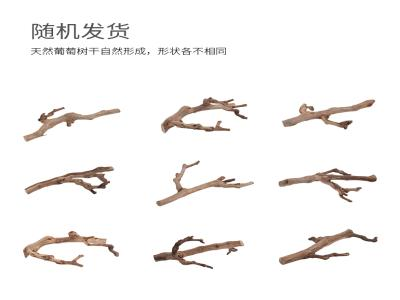Root: (157, 161, 253, 206), (280, 229, 377, 264), (23, 231, 118, 266), (24, 107, 120, 141), (279, 169, 376, 202), (161, 98, 247, 133), (154, 236, 243, 269), (282, 100, 374, 129), (25, 167, 113, 194)
